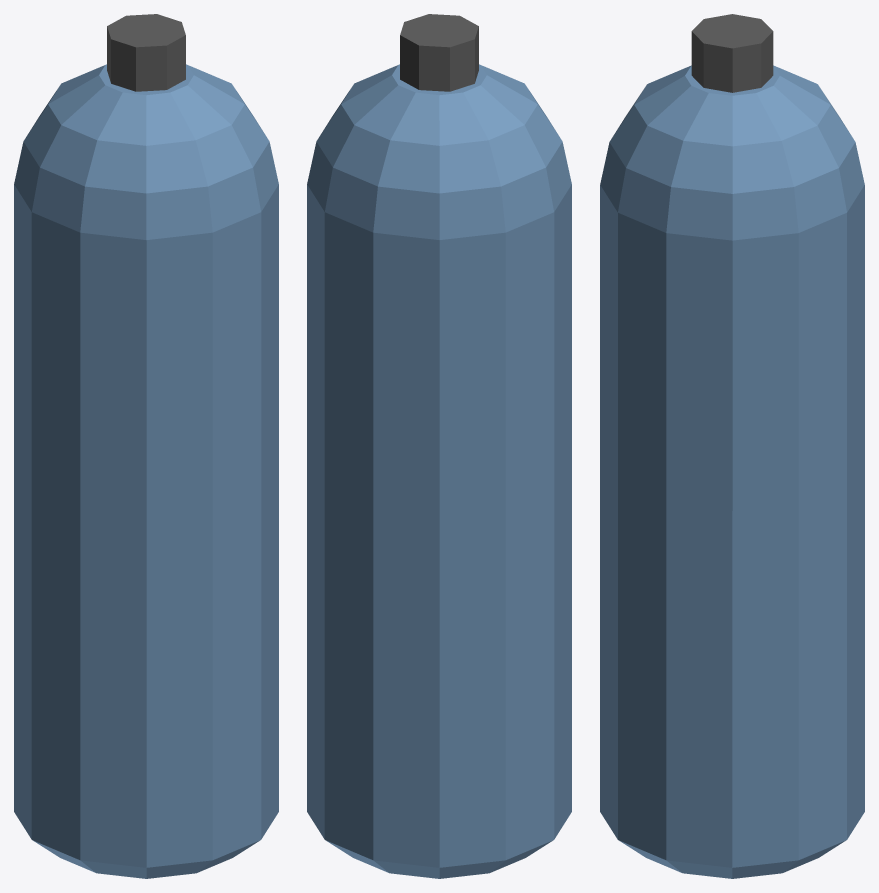
File: water_bottle_1.glb
3 views of the same model, side by side, from view 1: azimuth 30°, elevation 25°; view 2: azimuth 150°, elevation 25°; view 3: azimuth 270°, elevation 25° (orthographic).
Parts seen in each view (by area): view 1: WaterBottle_1; view 2: WaterBottle_1; view 3: WaterBottle_1.
Boxes of the visible parts, x1=… form: WaterBottle_1: x1=14, y1=14, x2=278, y2=878; WaterBottle_1: x1=307, y1=14, x2=571, y2=878; WaterBottle_1: x1=600, y1=14, x2=864, y2=878.
Size of the model in its own units: 0.5511 by 1.85 by 0.5511.
